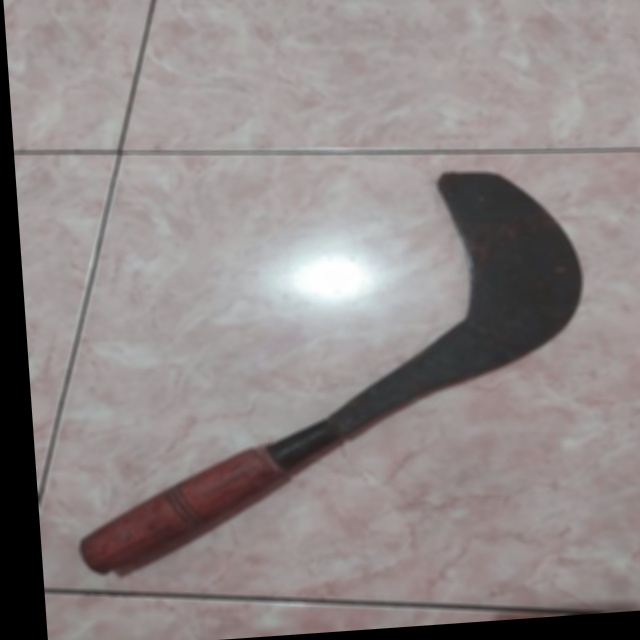Sharp-Object: (47, 141, 608, 585)
